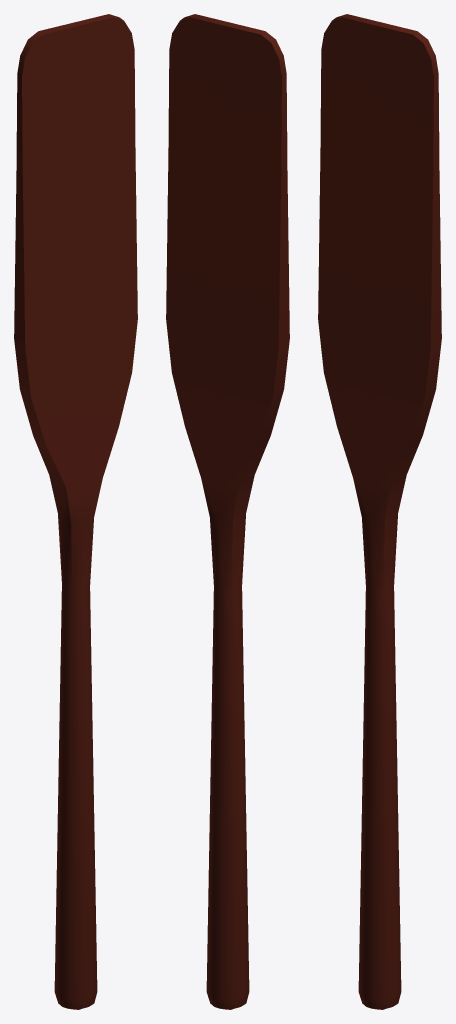
File: oar.obj
3 renders of one model, left to right at view 1: azimuth 30°, elevation 25°; view 2: azimuth 150°, elevation 25°; view 3: azimuth 330°, elevation 25°, orthographic.
Visible parts, largest first — view 1: oar_Cube.4968; view 2: oar_Cube.4968; view 3: oar_Cube.4968.
Part boxes in pixels (box(x1,y1,x2,y2)): oar_Cube.4968: box(14, 14, 137, 1009); oar_Cube.4968: box(166, 14, 289, 1009); oar_Cube.4968: box(318, 14, 441, 1009).
Bounding box in the file's own units: 0.2542 × 2.12 × 0.0833.
